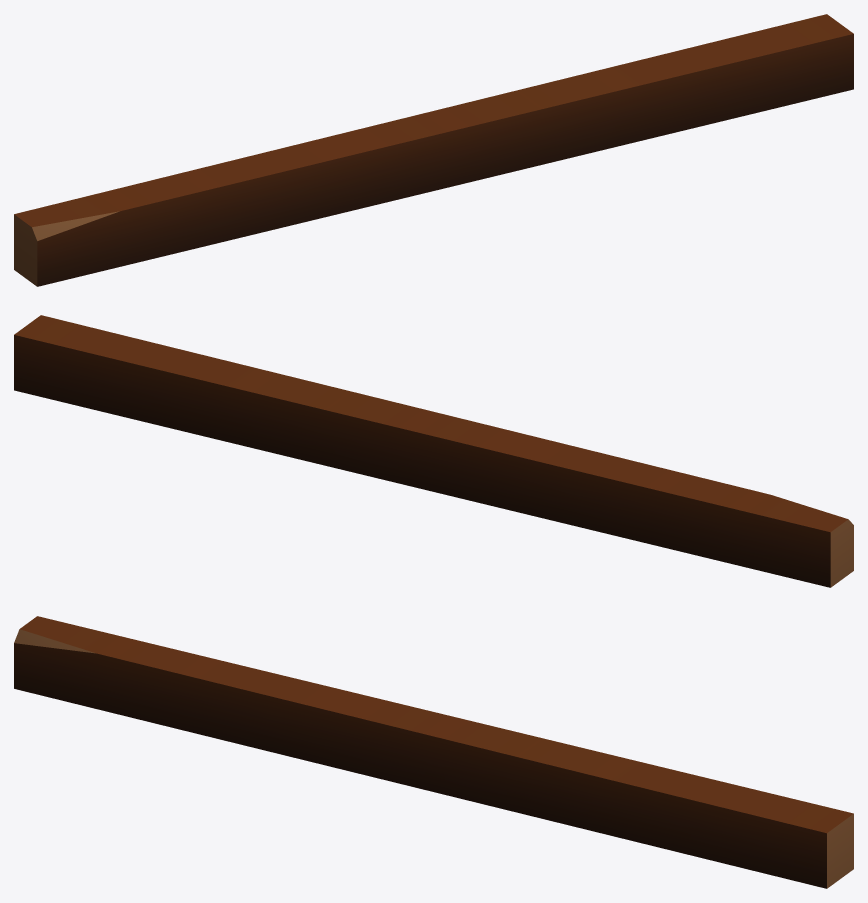
File: Wooden_Beam_1C.fbx
3 views of the same model, one above another, from view 1: azimuth 30°, elevation 25°; view 2: azimuth 150°, elevation 25°; view 3: azimuth 330°, elevation 25° (orthographic).
Parts seen in each view (by area): view 1: Wooden_Beam_1C; view 2: Wooden_Beam_1C; view 3: Wooden_Beam_1C.
Boxes of the visible parts, x1=… form: Wooden_Beam_1C: x1=14, y1=14, x2=853, y2=286; Wooden_Beam_1C: x1=14, y1=315, x2=853, y2=587; Wooden_Beam_1C: x1=14, y1=616, x2=853, y2=888.
Bounding box in the file's own units: 383 × 25 × 22.
